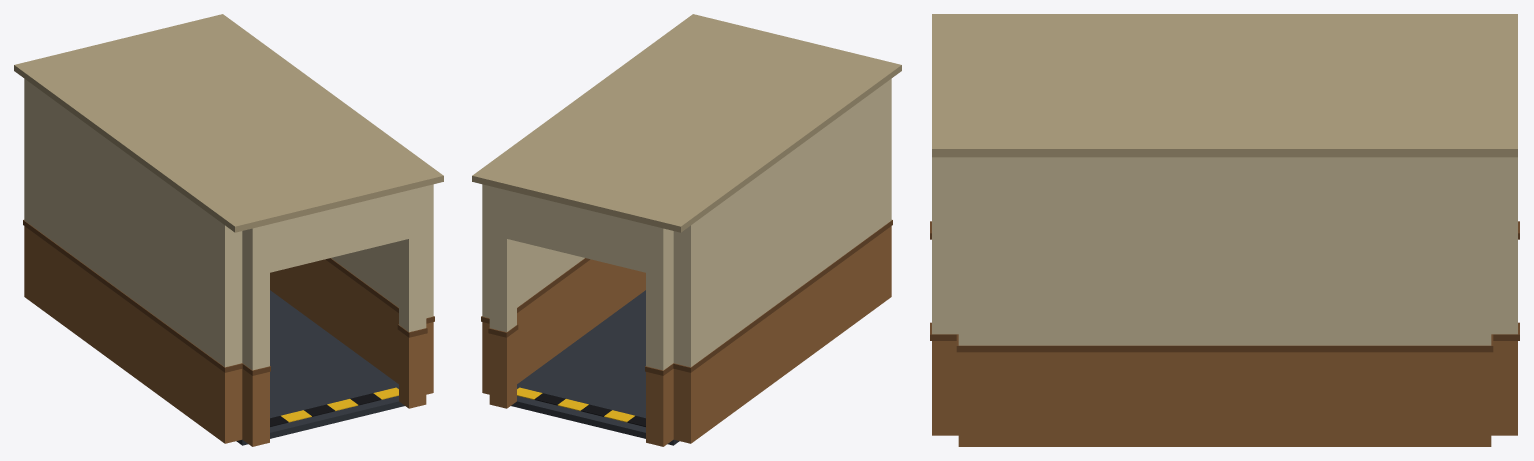
Rendered from room_botany_decon_airlock.glb.
3 renders of one model, left to right at view 1: azimuth 30°, elevation 25°; view 2: azimuth 150°, elevation 25°; view 3: azimuth 270°, elevation 25°, orthographic. The views are drawn at different scales.
Parts seen in each view (by area): view 1: room_botany_decon_airlock; view 2: room_botany_decon_airlock; view 3: room_botany_decon_airlock.
Boxes of the visible parts, x1,y1,x2,y2 form: room_botany_decon_airlock: [14, 14, 443, 446]; room_botany_decon_airlock: [472, 14, 901, 446]; room_botany_decon_airlock: [930, 14, 1519, 446].
Bounding box in the file's own units: 3.62 × 3.8 × 6.64.
Materials: 1 (1 with a texture image).
